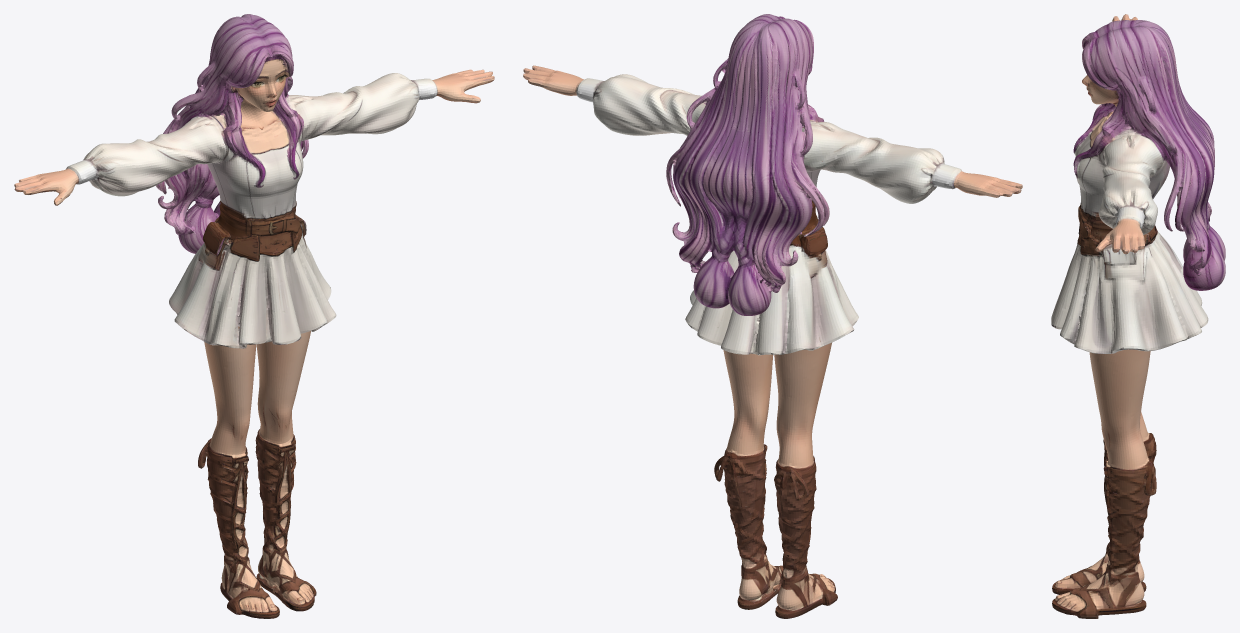
Rendered from female-FOR-MIXAMO-v2.fbx.
3 renders of one model, left to right at view 1: azimuth 30°, elevation 25°; view 2: azimuth 150°, elevation 25°; view 3: azimuth 270°, elevation 25°, orthographic. The views are drawn at different scales.
Parts seen in each view (by area): view 1: Mesh_0; view 2: Mesh_0; view 3: Mesh_0.
Boxes of the visible parts, <box> form: Mesh_0: <box>14,14,494,618</box>; Mesh_0: <box>523,14,1022,618</box>; Mesh_0: <box>1051,14,1225,618</box>.
Size of the model in its own units: 1.69 by 1.91 by 0.5261.
1 material, 1 textured.
